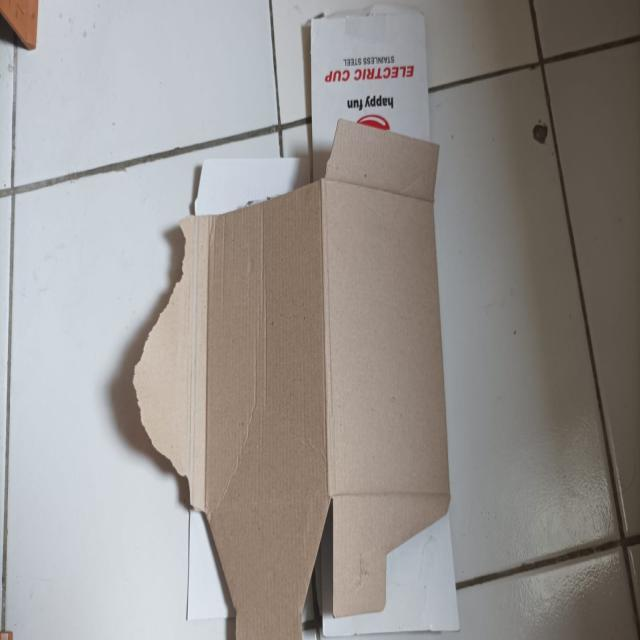Organik: (135, 14, 459, 640)
